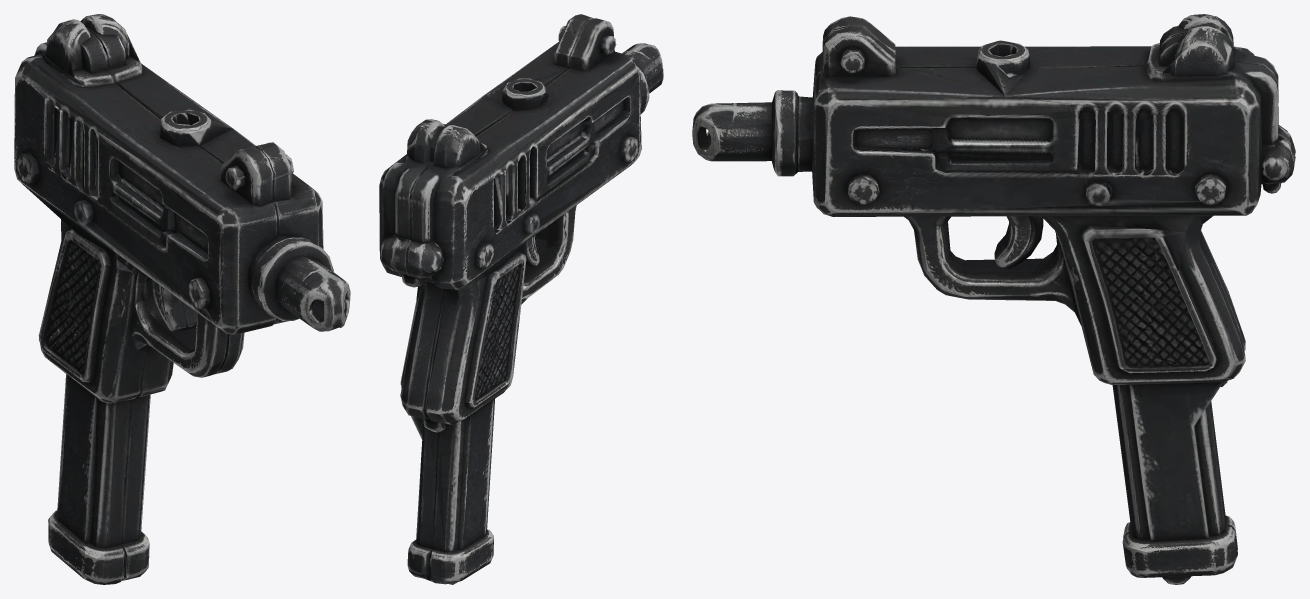
Rendered from gun_macdaddy.glb.
3 renders of one model, left to right at view 1: azimuth 30°, elevation 25°; view 2: azimuth 150°, elevation 25°; view 3: azimuth 270°, elevation 25°, orthographic. The views are drawn at different scales.
Bounding box in the file's own units: 0.0902 × 0.396 × 0.3859.
Materials: 1 (1 with a texture image).
